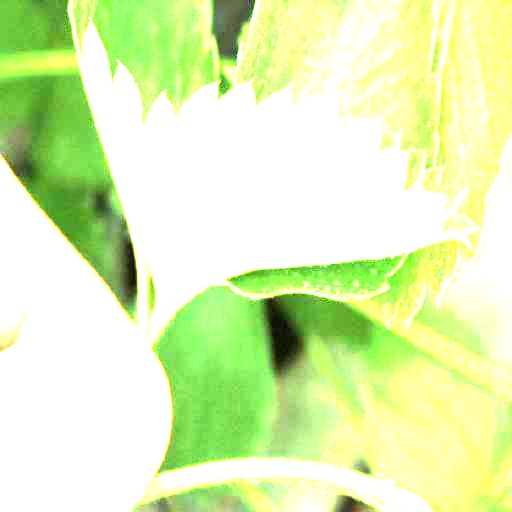Powdery Mildew Leaf: (112, 77, 485, 332)
